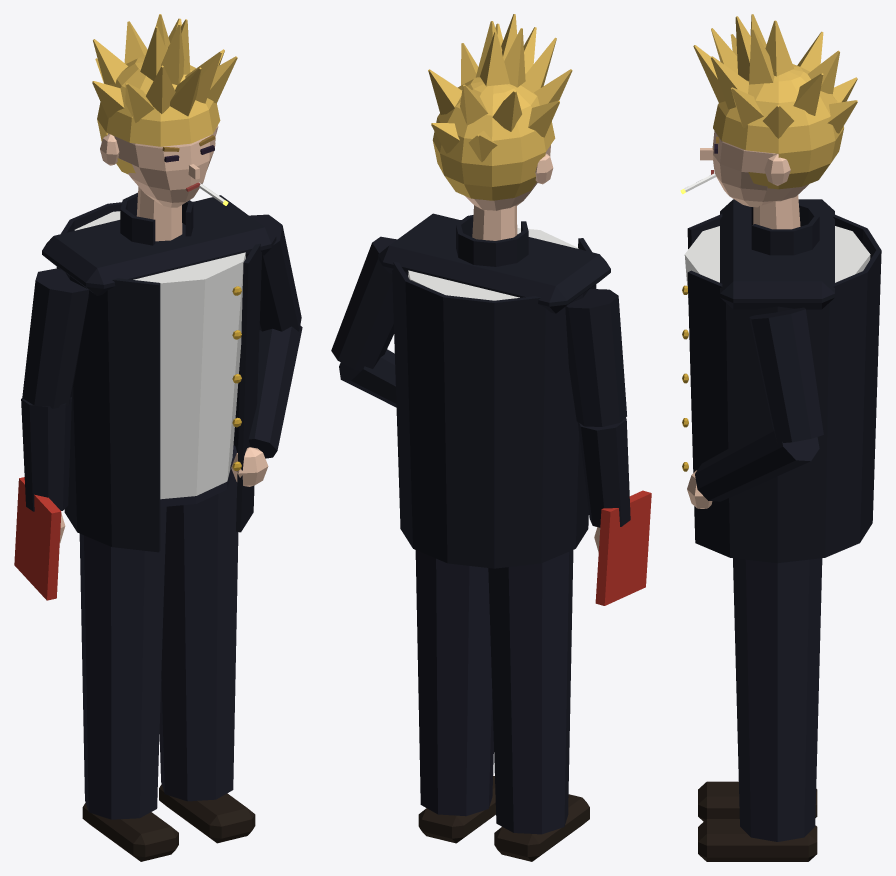
File: Tomura_Ryuta.fbx
3 renders of one model, left to right at view 1: azimuth 30°, elevation 25°; view 2: azimuth 150°, elevation 25°; view 3: azimuth 270°, elevation 25°, orthographic.
Parts seen in each view (by area): view 1: Tomura_Ryuta; view 2: Tomura_Ryuta; view 3: Tomura_Ryuta.
Boxes of the visible parts, x1,y1,x2,y2 form: Tomura_Ryuta: (14,14,302,861); Tomura_Ryuta: (331,14,651,861); Tomura_Ryuta: (680,14,881,861).
Bounding box in the file's own units: 0.7426 × 2.04 × 0.4548.
